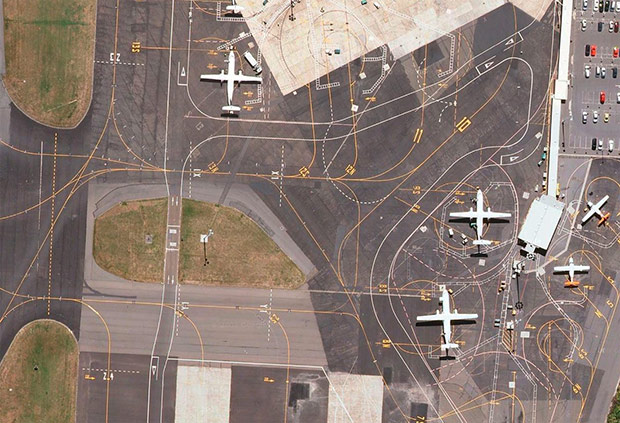aircraft: (417, 287, 480, 353), (200, 50, 264, 114), (450, 187, 513, 252), (552, 256, 592, 287), (582, 194, 611, 225)
